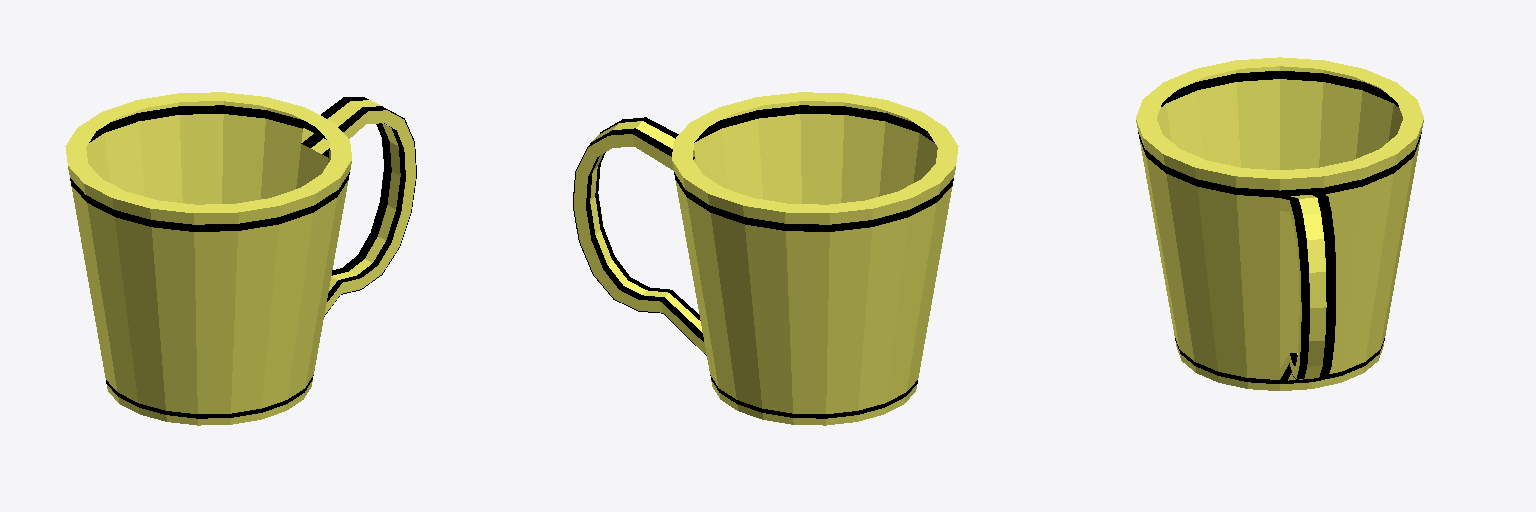
File: cup.obj
3 views of the same model, side by side, from view 1: azimuth 30°, elevation 25°; view 2: azimuth 150°, elevation 25°; view 3: azimuth 270°, elevation 25° (orthographic).
Parts seen in each view (by area): view 1: pCylinder1; view 2: pCylinder1; view 3: pCylinder1.
Part boxes in pixels (left/top/right/bottom): pCylinder1: left=65, top=92, right=416, bottom=425; pCylinder1: left=573, top=92, right=958, bottom=425; pCylinder1: left=1136, top=57, right=1423, bottom=390.
Bounding box in the file's own units: 8.82 × 5.62 × 6.41.